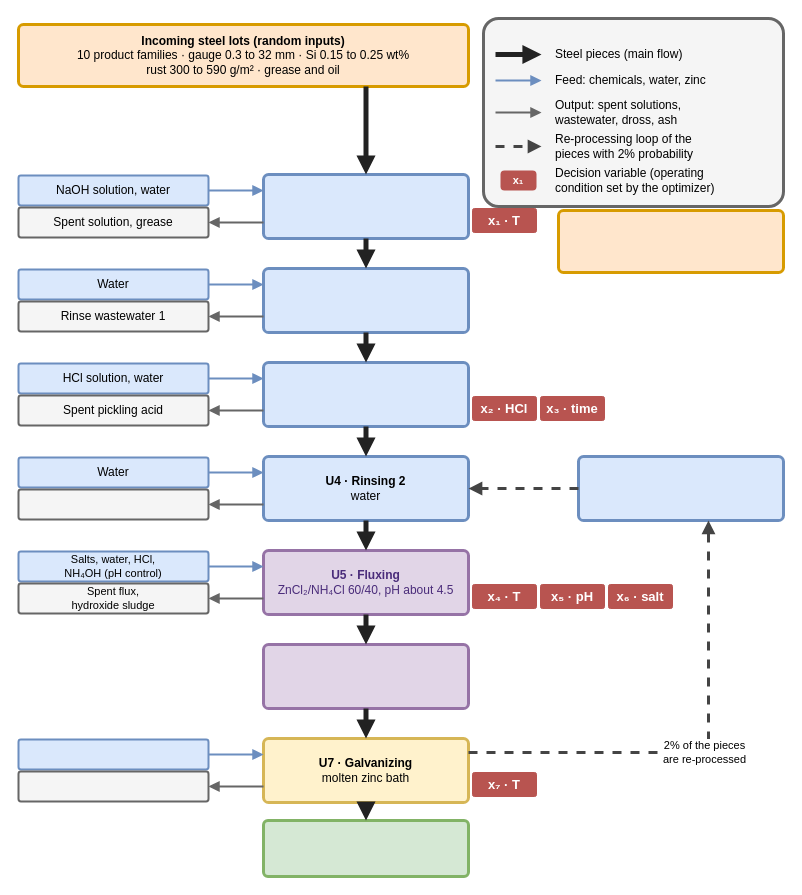
The diagram is 802 pixels wide and 895 high, and some of its shapes have lost their labels. The box of each missing label's shape, as (x1, y1, x2, y2) in pixels:
Dezincification bath HCl 2 to 4 wt%: (576, 454, 784, 522)
Dross, ash: (17, 770, 209, 802)
Galvanized steel ISO 1461 thickness check: (262, 818, 470, 878)
Legend: (482, 16, 784, 208)
Rinse wastewater 2: (17, 488, 209, 520)
Surroundings random ambient T ~ N(22, 2²) °C enters every heat balance: (556, 208, 784, 274)
U1 · Degreasing NaOH 14 to 16 wt%: (262, 172, 470, 240)
U2 · Rinsing 1 water: (262, 266, 470, 334)
U3 · Pickling HCl 16 to 18 wt%: (262, 360, 470, 428)
U6 · Drying oven at about 100 °C: (262, 642, 470, 710)
Zinc make-up: (17, 738, 209, 770)
